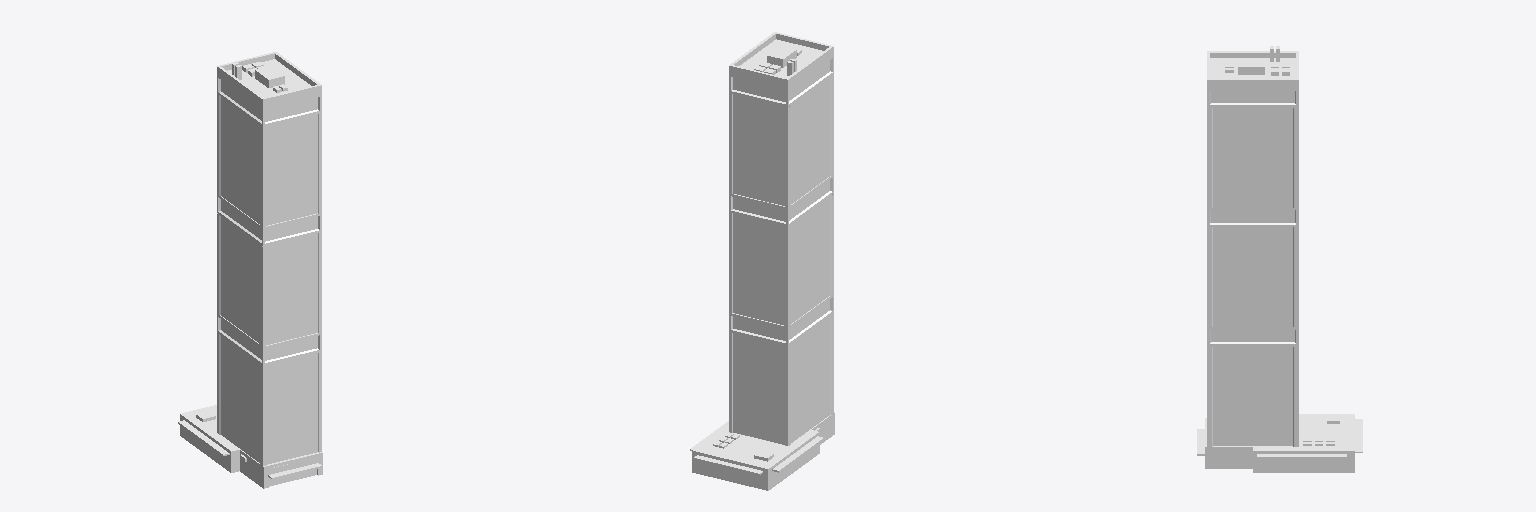
Rendered from Building_01.obj.
The picture shows the model from 3 angles: view 1: azimuth 30°, elevation 25°; view 2: azimuth 150°, elevation 25°; view 3: azimuth 270°, elevation 25°; orthographic projection.
Visible parts, largest first — view 1: Building_01.001_Mesh; view 2: Building_01.001_Mesh; view 3: Building_01.001_Mesh.
Boxes of the visible parts, <box> form: Building_01.001_Mesh: <box>178,52,322,488</box>; Building_01.001_Mesh: <box>690,32,834,490</box>; Building_01.001_Mesh: <box>1197,46,1362,472</box>.
Bounding box in the file's own units: 8.59 × 36.57 × 13.81.